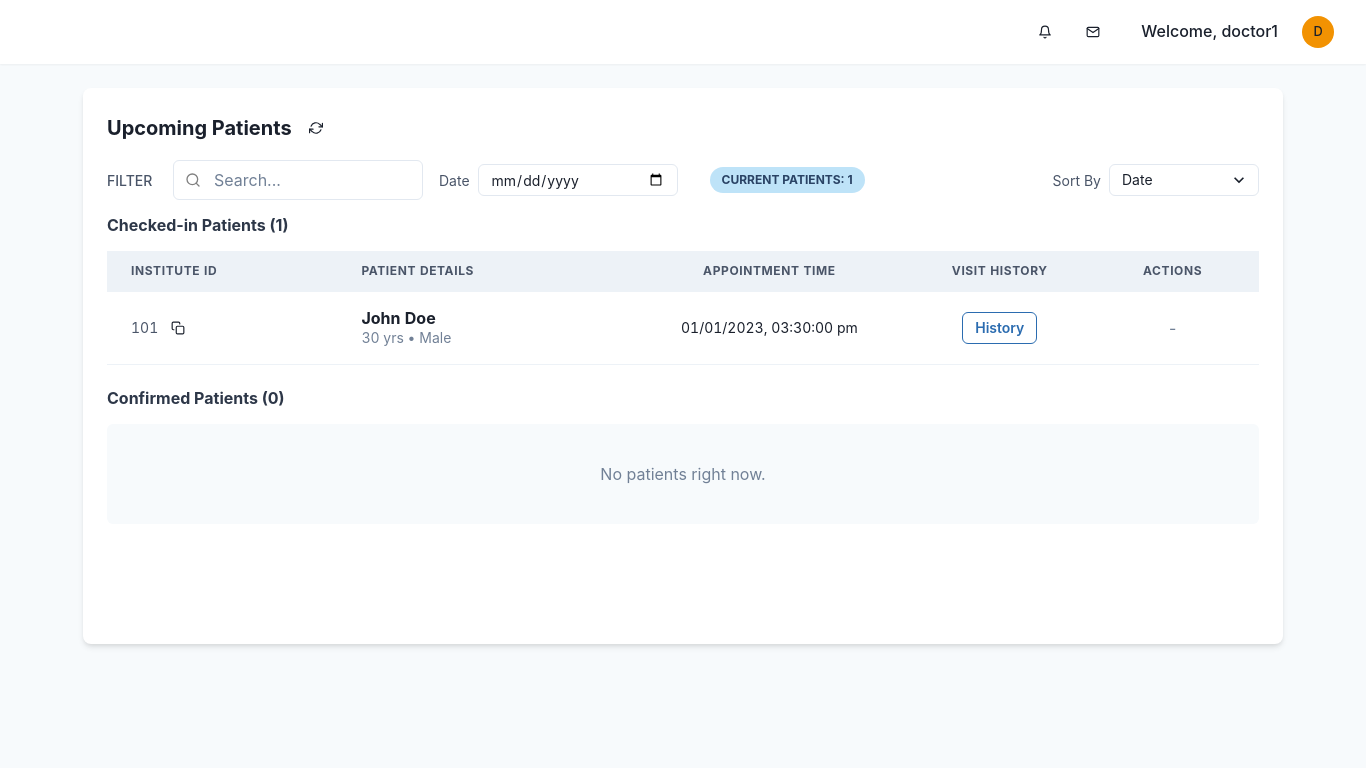
DoctorsDashboard Component › opens patient modal when row is clicked
This screenshot has width=1366, height=768.
Click the text "John Doe" at (399, 318), box [361,308,436,328]
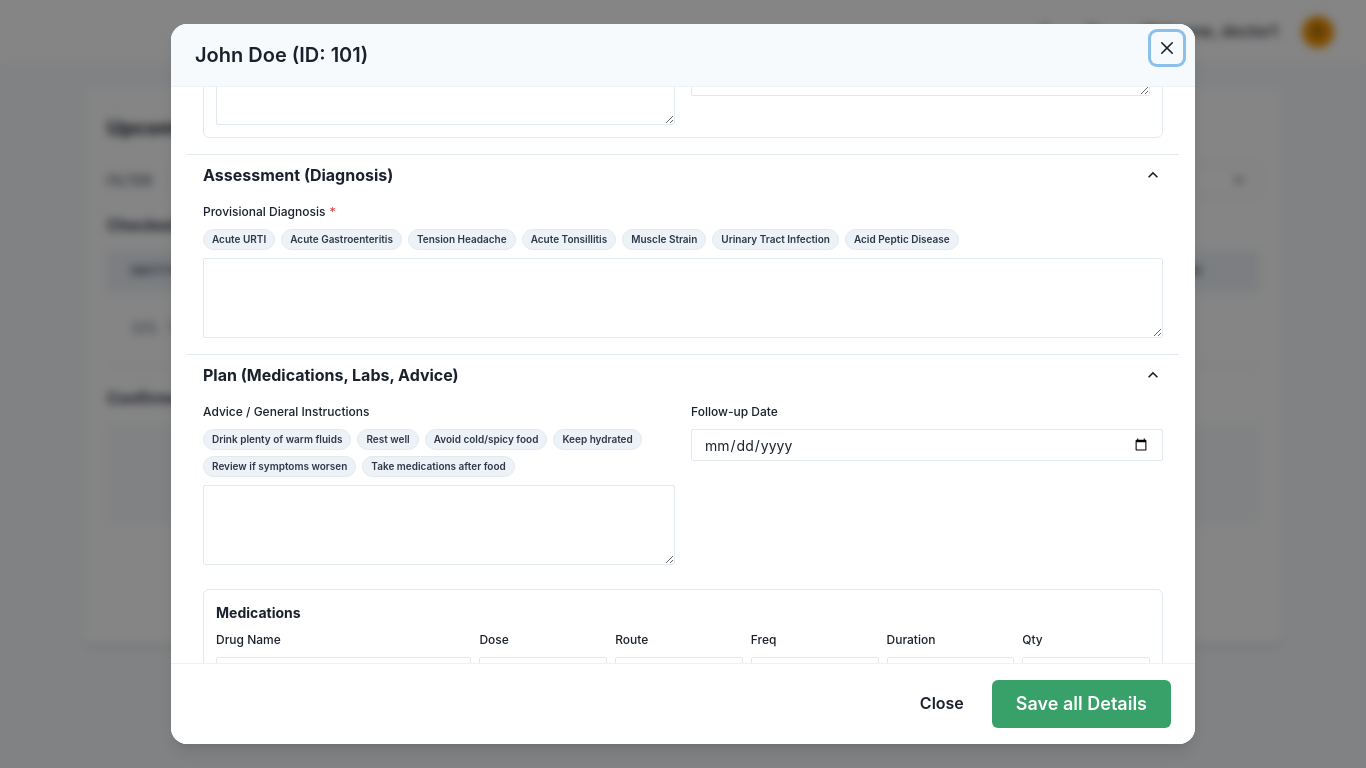
Result: the text "John Doe (ID: 101)" is shown at [171,24,1195,87]
Result: the text "Plan (Medications, Labs, Advice)" is shown at [203,365,459,385]
